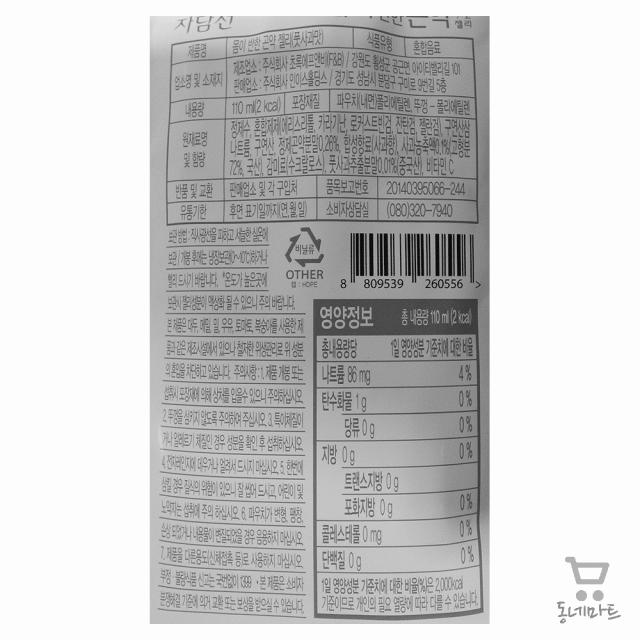Nutrition Label: (307, 293, 491, 625)
